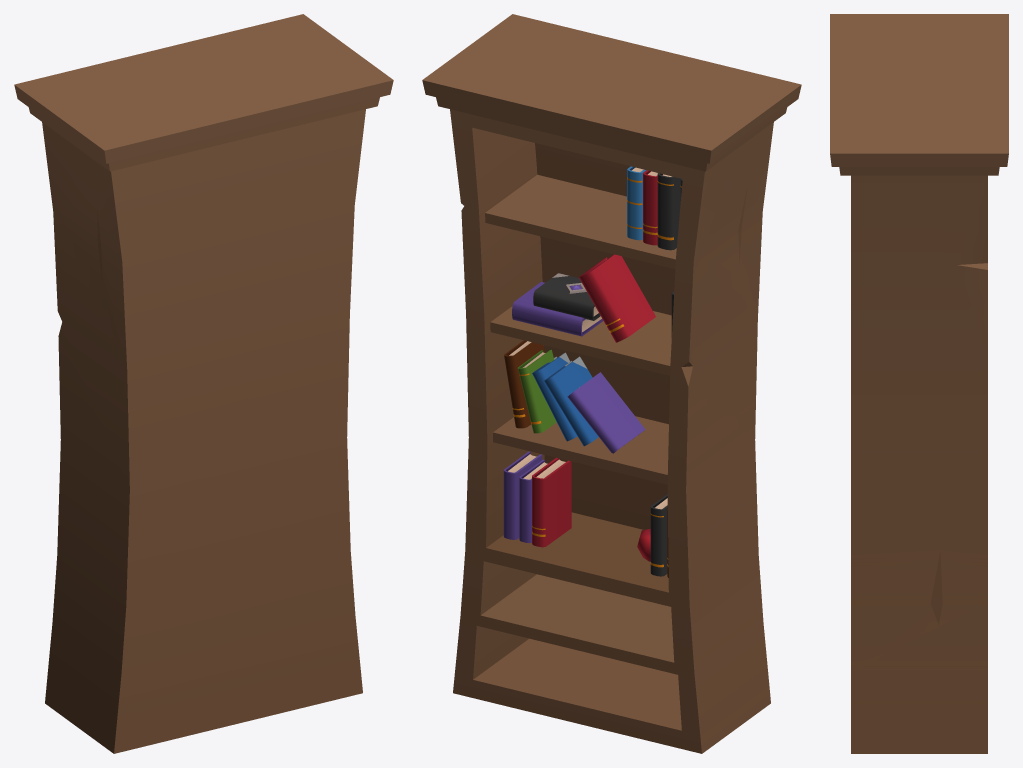
Rendered from ShelfPattern_02.fbx.
The picture shows the model from 3 angles, left to right: view 1: azimuth 30°, elevation 25°; view 2: azimuth 150°, elevation 25°; view 3: azimuth 270°, elevation 25°; orthographic projection.
Visible parts, largest first — view 1: ShelfPattern_02; view 2: ShelfPattern_02; view 3: ShelfPattern_02.
Part boxes in pixels (x1,y1,x2,y2): ShelfPattern_02: (14,14,393,753); ShelfPattern_02: (422,14,801,753); ShelfPattern_02: (830,14,1008,753).
Size of the model in its own units: 99.08 by 202 by 53.61.
